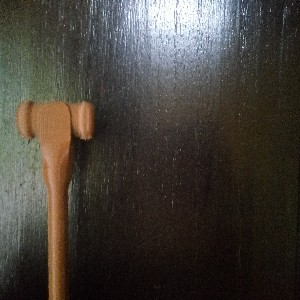palu: (16, 99, 95, 300)
